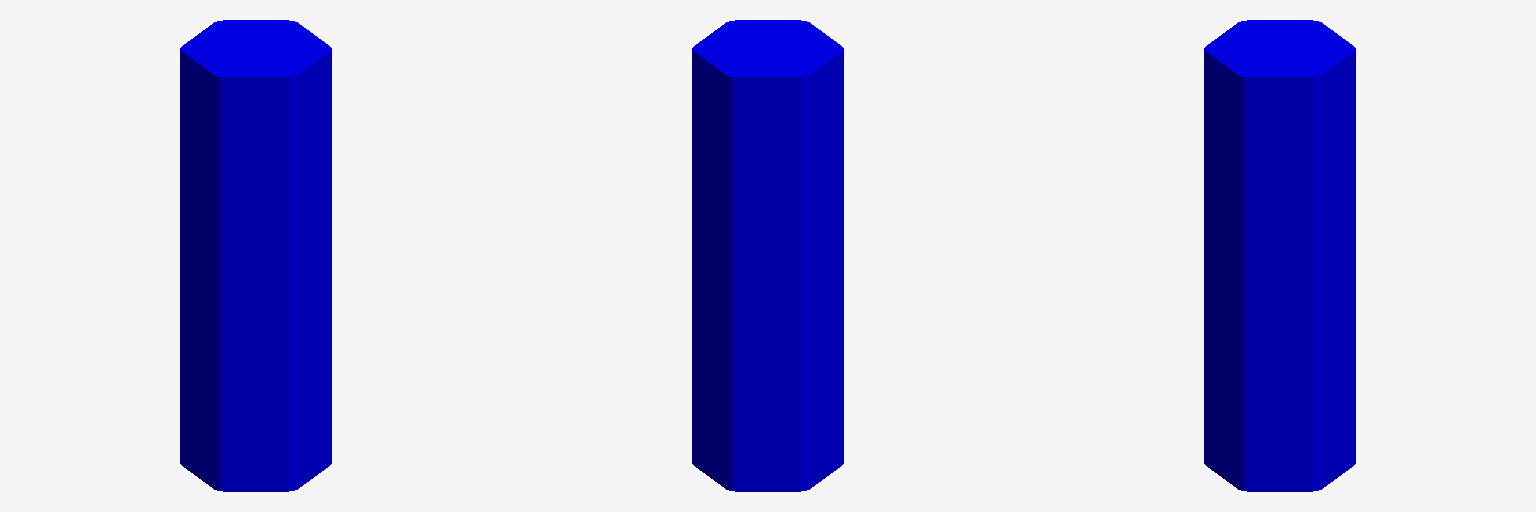
robot.urdf — board3_block8:
<?xml version="1.0"?>
<robot name="board3_block8">
    <link name="board3_block8">
        <visual>
            <origin xyz="0 0 0 " rpy=" 0 0 0"/>
            <geometry>
                <mesh filename="../meshes/SIMO_Board3_Block8.stl" scale="0.001 0.001 0.001"/>
            </geometry>
            <material name="red">
                <color rgba="0.0 0.0 1.0 1.0"/>
            </material>
        </visual>
        <collision>
            <origin xyz="0 0 0" rpy="0 0 0"/>
            <geometry>
                <mesh filename="../meshes/SIMO_Board3_Block8.stl" scale="0.001 0.001 0.001"/>
            </geometry>
        </collision>
    </link>
</robot>

--- Render facts (derived) ---
3 views of the same robot in one strip: view 1: azimuth 30°, elevation 25°; view 2: azimuth 150°, elevation 25°; view 3: azimuth 270°, elevation 25° (orthographic).
Model board3_block8 with 1 links and 0 joints (none), rooted at board3_block8, posed all joints at 0.
Visible links, largest first — view 1: board3_block8; view 2: board3_block8; view 3: board3_block8.
Link boxes in pixels (x1=…): board3_block8: x1=180, y1=20, x2=331, y2=491; board3_block8: x1=692, y1=20, x2=843, y2=491; board3_block8: x1=1204, y1=20, x2=1355, y2=491.
Size in the robot's own frame: 0.0294 by 0.0333 by 0.1 metres.
1 mesh visuals loaded from 1 distinct referenced files (1 ASCII STL).
